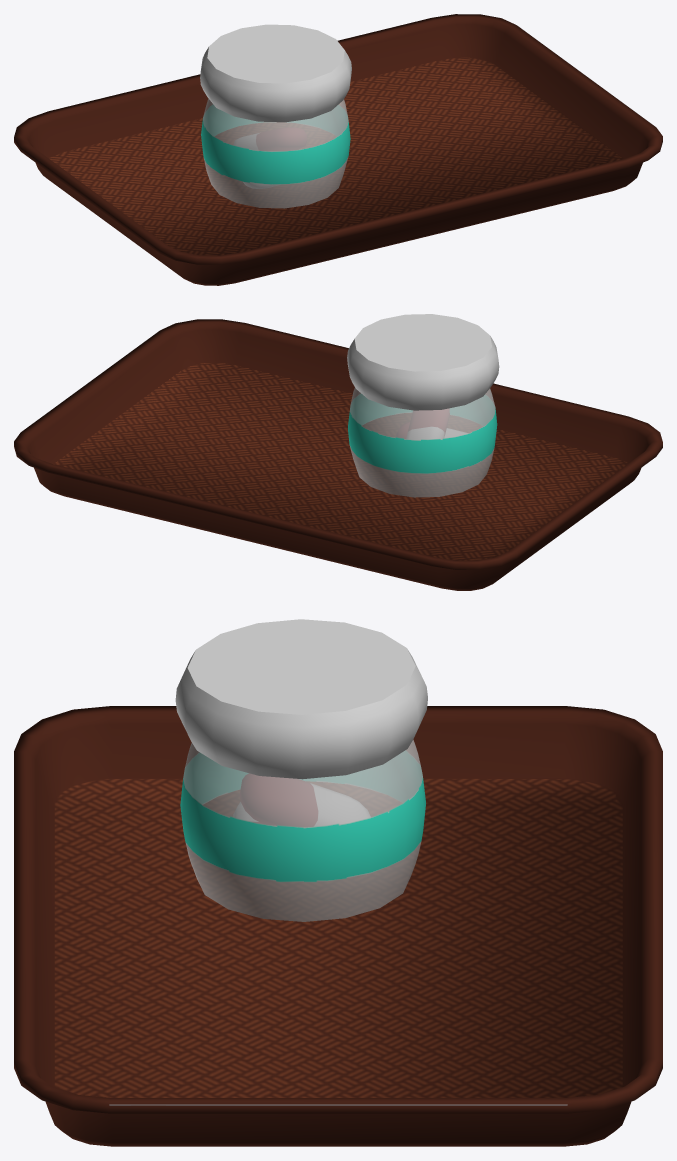
Rendered from tray_pill.glb.
The picture shows the model from 3 angles, top to bottom: view 1: azimuth 30°, elevation 25°; view 2: azimuth 150°, elevation 25°; view 3: azimuth 270°, elevation 25°; orthographic projection. The views are drawn at different scales.
Parts seen in each view (by area): view 1: Cube, Cylinder.006, Cylinder.007, Cube.006; view 2: Cube, Cylinder.006, Cylinder.007, Cube.006; view 3: Cube, Cylinder.006, Cylinder.007, Cube.006.
Part boxes in pixels (box(x1,y1,x2,y2)): Cube: box(14, 14, 662, 285); Cylinder.006: box(201, 98, 350, 208); Cylinder.007: box(200, 24, 351, 122); Cube.006: box(234, 128, 306, 150); Cube: box(14, 319, 662, 590); Cylinder.006: box(348, 387, 497, 497); Cylinder.007: box(347, 314, 499, 410); Cube.006: box(406, 409, 449, 439); Cube: box(14, 706, 662, 1146); Cylinder.006: box(180, 739, 425, 921); Cylinder.007: box(175, 619, 427, 779); Cube.006: box(240, 774, 370, 826).
Bounding box in the file's own units: 0.9263 × 0.2627 × 0.6374.
5 materials, 5 textured.
